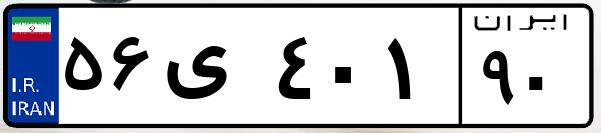0: (330, 28, 385, 110), (525, 38, 570, 115)
1: (385, 28, 445, 110)
4: (270, 28, 330, 110)
5: (57, 26, 110, 100)
6: (110, 28, 158, 98)
9: (475, 38, 525, 113)
ی: (158, 20, 270, 120)
